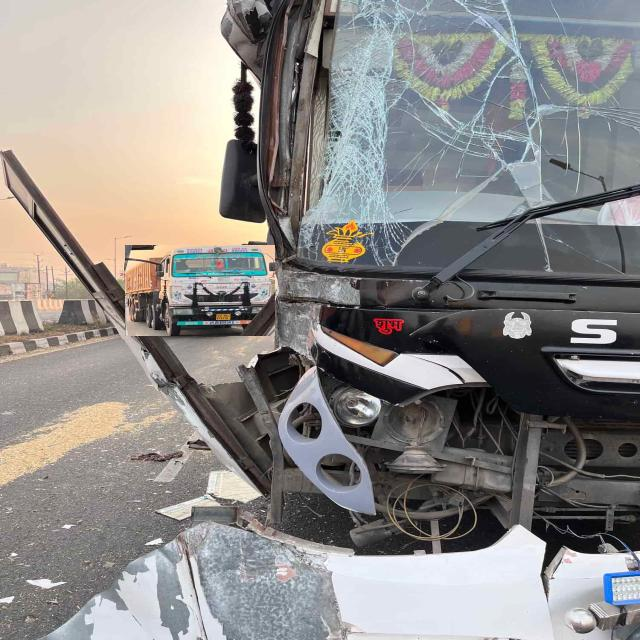accident: (3, 0, 640, 639)
truck: (125, 245, 275, 336)
